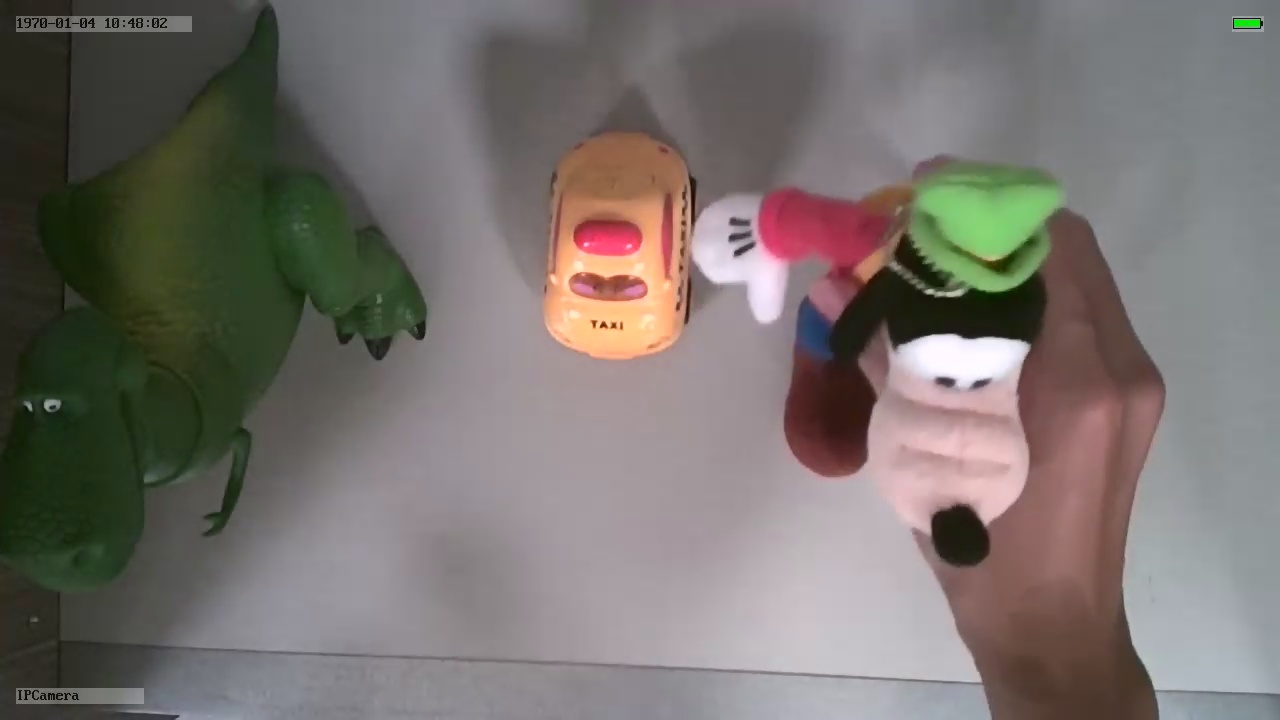car: (542, 128, 698, 364)
rex: (1, 91, 428, 599)
